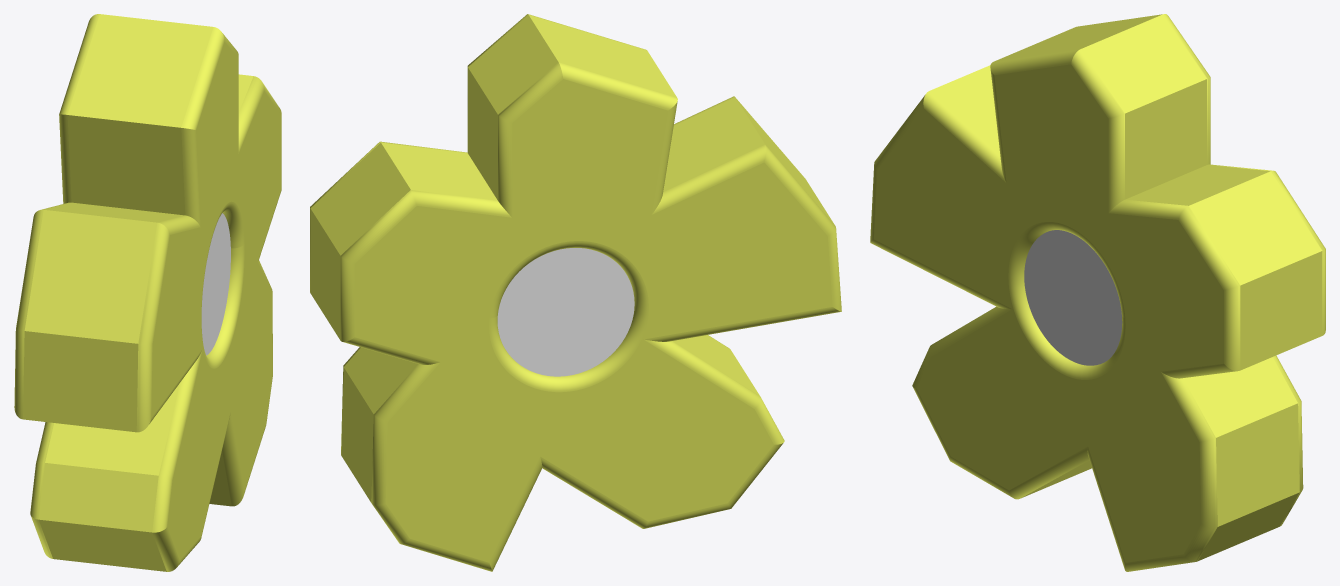
File: 27_WeAreFriends.glb
3 views of the same model, side by side, from view 1: azimuth 30°, elevation 25°; view 2: azimuth 150°, elevation 25°; view 3: azimuth 270°, elevation 25° (orthographic).
Visible parts, largest first — view 1: Extrude, Cylinder; view 2: Extrude, Cylinder; view 3: Extrude, Cylinder.
Boxes of the visible parts, <box> form: Extrude: <box>14,14,281,571</box>; Cylinder: <box>201,213,230,355</box>; Extrude: <box>310,14,841,571</box>; Cylinder: <box>497,248,634,376</box>; Extrude: <box>870,14,1325,571</box>; Cylinder: <box>1024,230,1122,365</box>.
Size of the model in its own units: 2.94 by 3.57 by 2.94.
